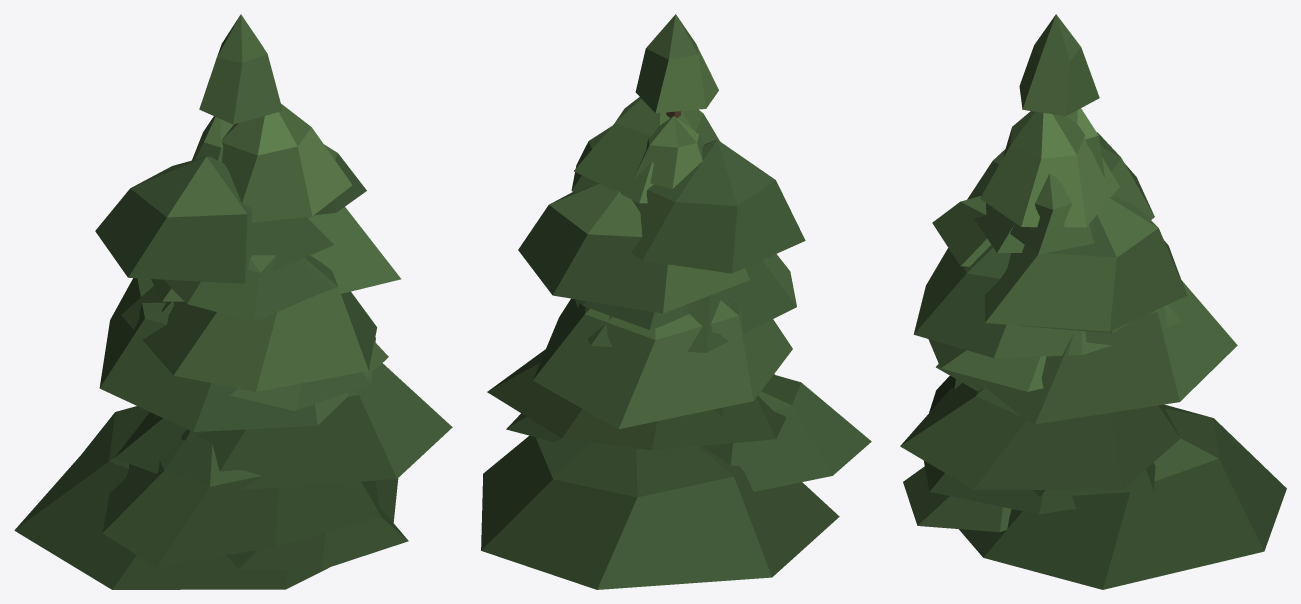
The model's file is tree-conifer-b.glb.
3 renders of one model, left to right at view 1: azimuth 30°, elevation 25°; view 2: azimuth 150°, elevation 25°; view 3: azimuth 270°, elevation 25°, orthographic. The views are drawn at different scales.
Visible parts, largest first — view 1: Tree_Conifer_B; view 2: Tree_Conifer_B; view 3: Tree_Conifer_B.
Part boxes in pixels (x1,y1,x2,y2): Tree_Conifer_B: (14,14,452,589); Tree_Conifer_B: (481,14,871,589); Tree_Conifer_B: (900,14,1286,589).
Size of the model in its own units: 4.66 by 7.21 by 4.76.
1 material, 1 textured.
